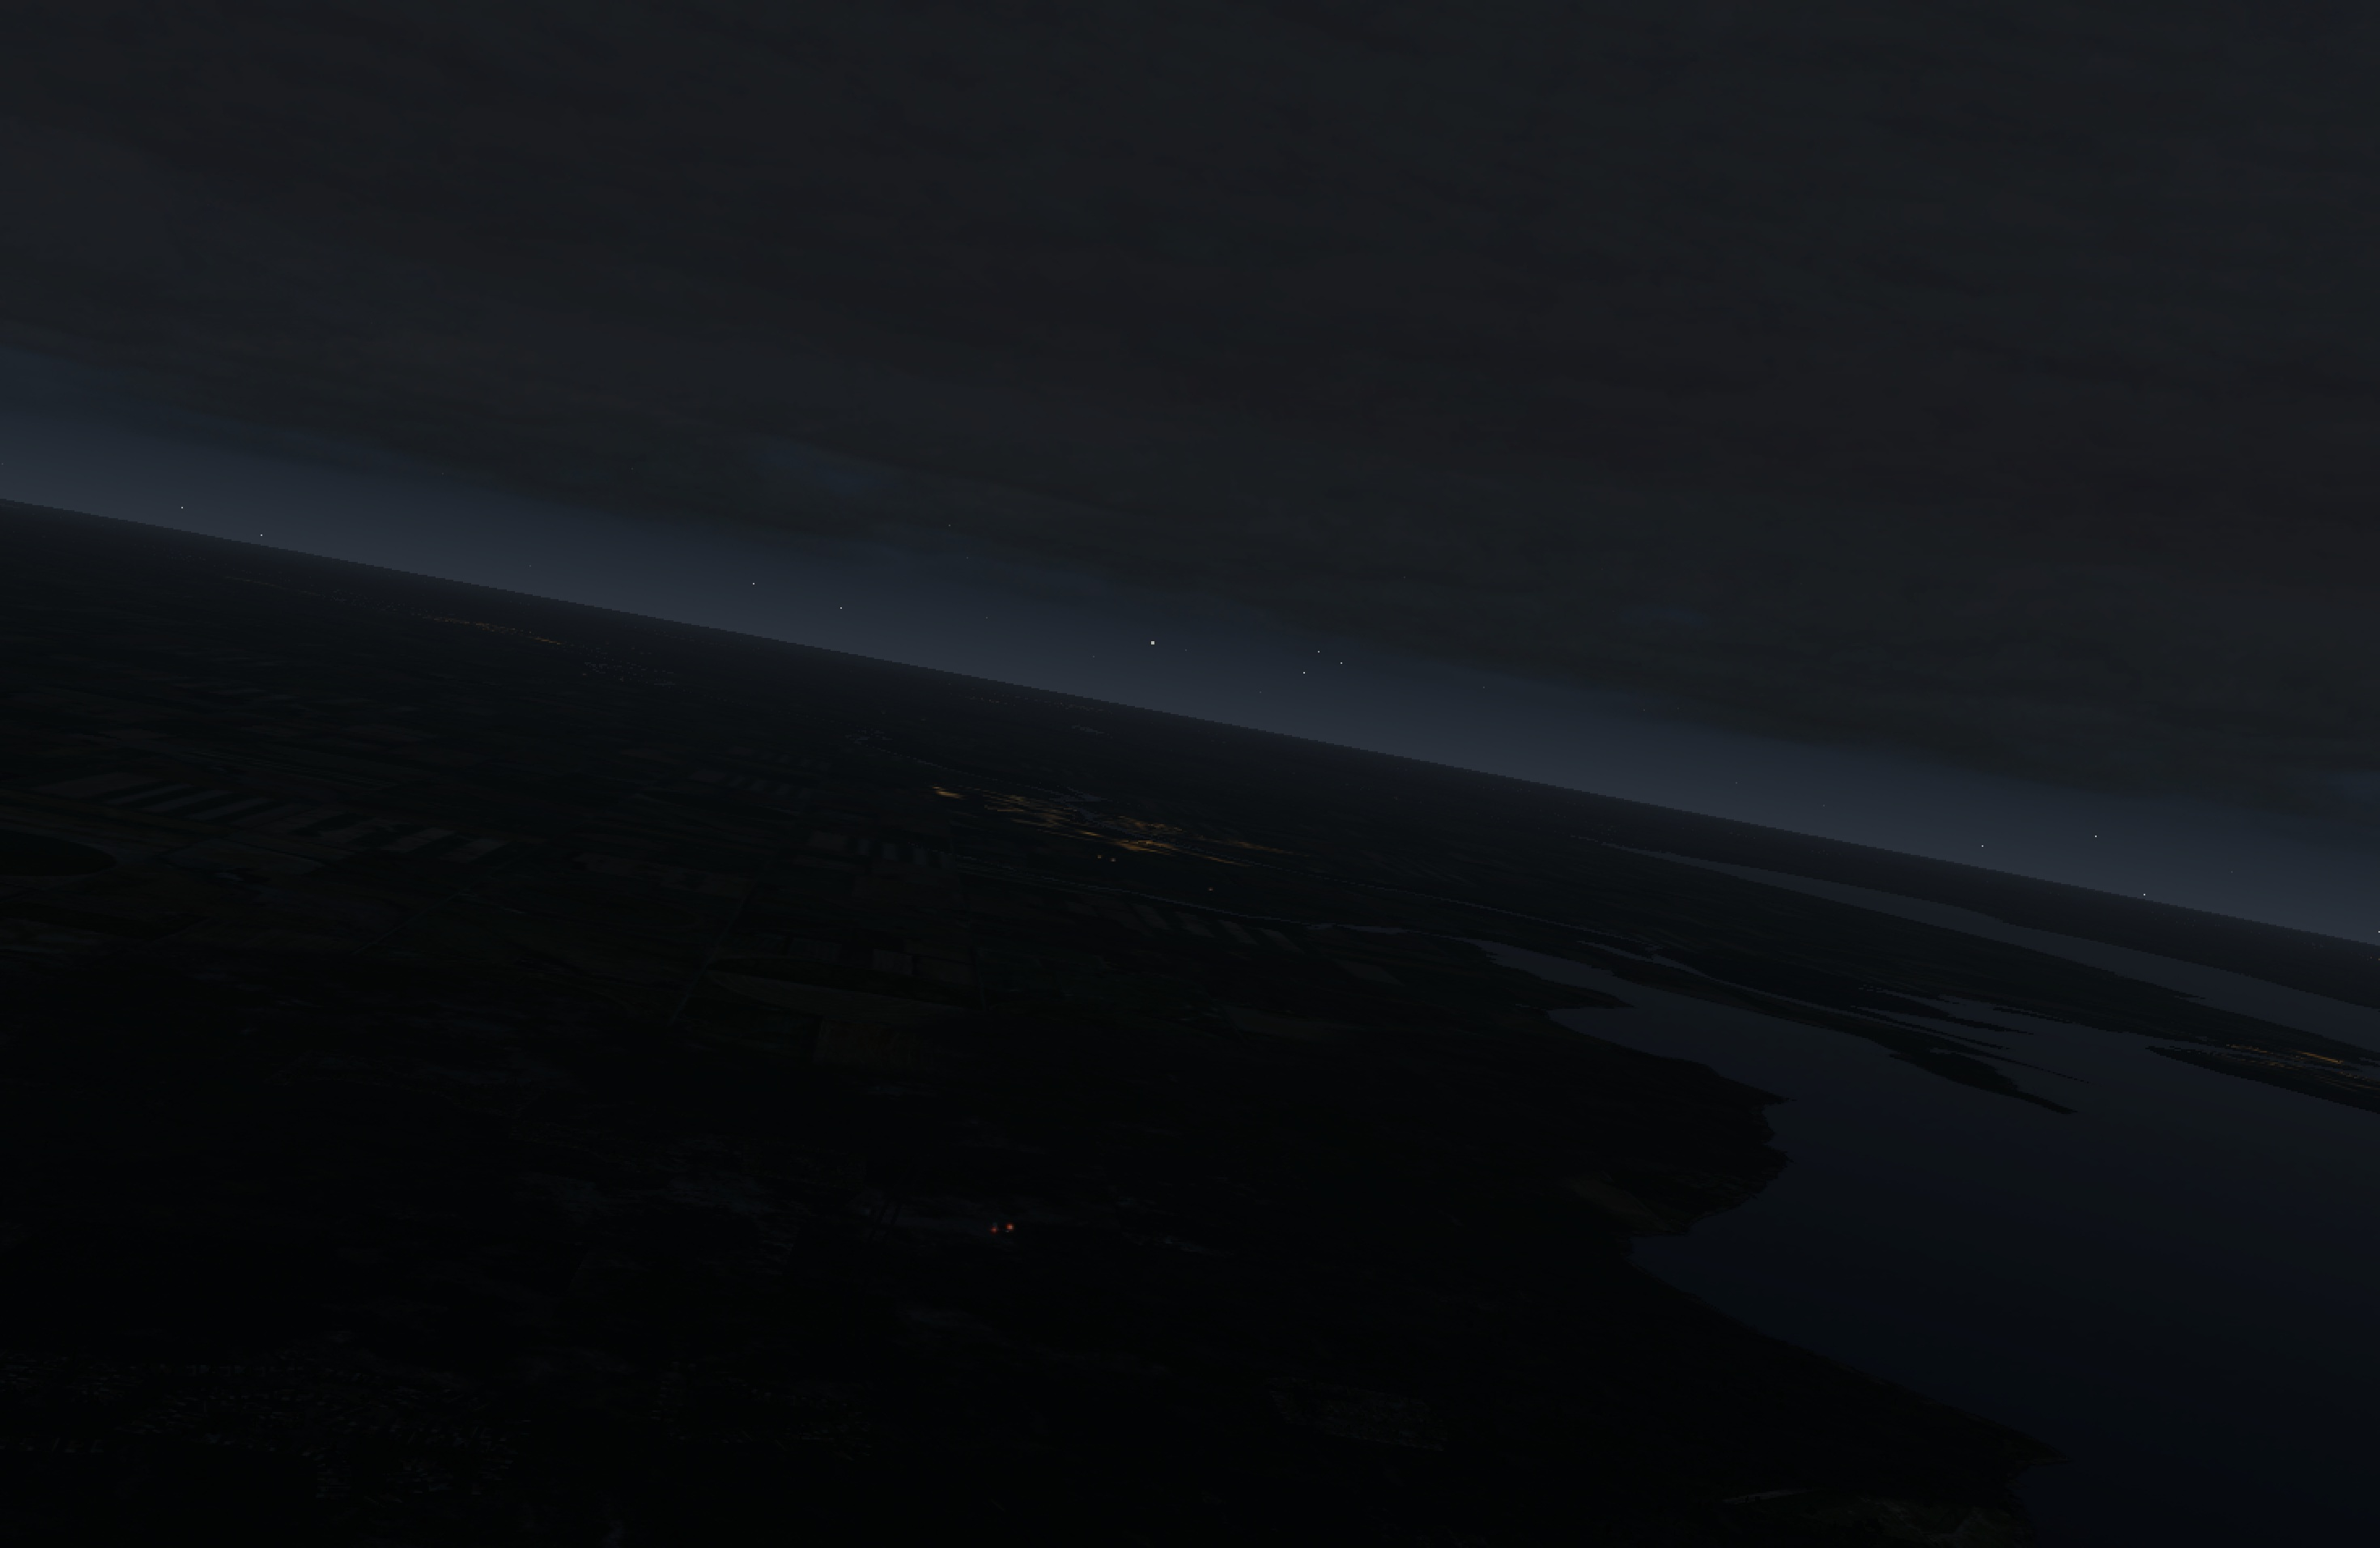aircraft: (984, 1225, 1004, 1234)
